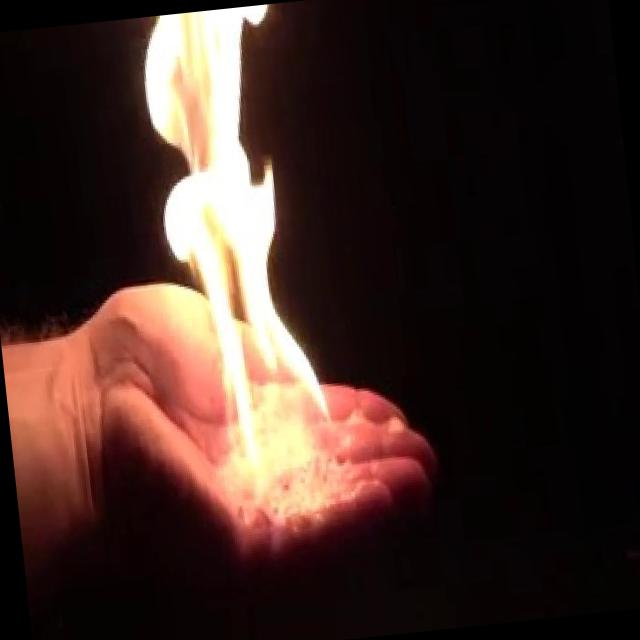Fire: (129, 1, 341, 488)
